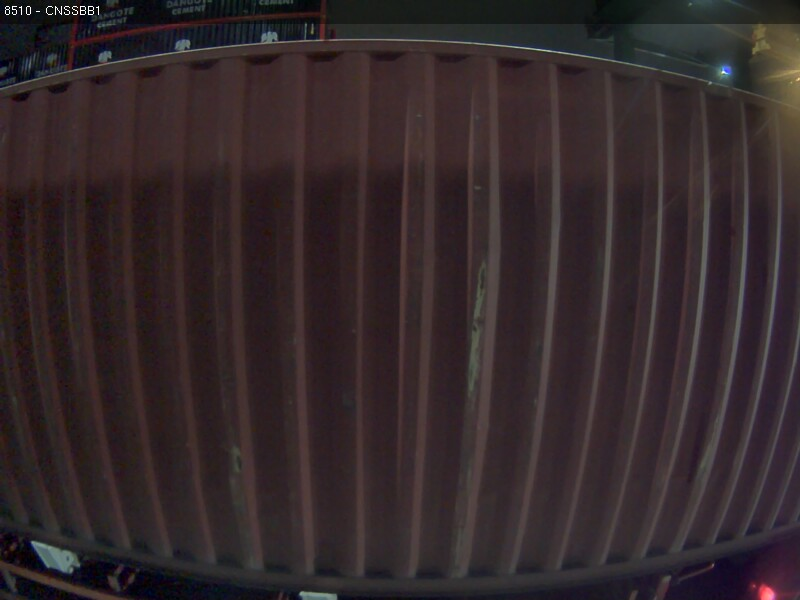container_no_door: (144, 73, 551, 557)
